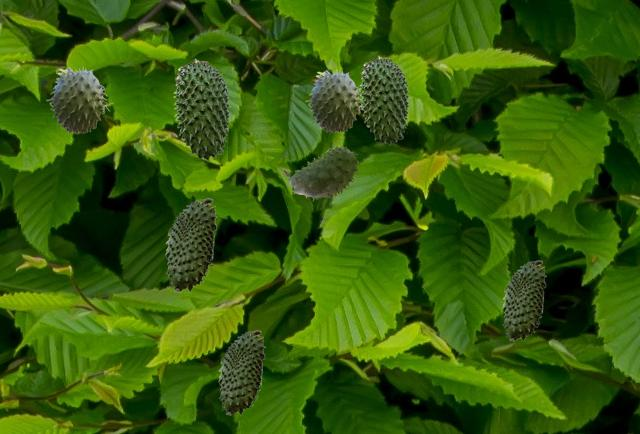guyabano: (173, 58, 230, 160), (165, 198, 216, 291), (359, 55, 409, 144), (46, 66, 112, 133), (283, 146, 358, 200), (218, 330, 264, 414), (305, 69, 364, 132), (502, 260, 545, 340)
